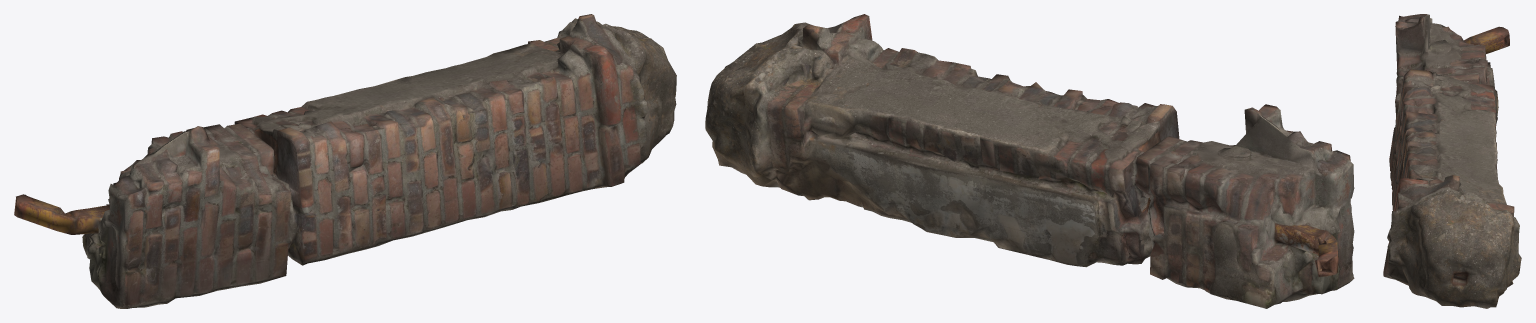
The model's file is PX_Brick_Ruins_21_LOD2.fbx.
The picture shows the model from 3 angles, left to right: view 1: azimuth 30°, elevation 25°; view 2: azimuth 150°, elevation 25°; view 3: azimuth 270°, elevation 25°; orthographic projection. The views are drawn at different scales.
Parts seen in each view (by area): view 1: PX_Brick_Ruins_21_LOD2; view 2: PX_Brick_Ruins_21_LOD2; view 3: PX_Brick_Ruins_21_LOD2.
Boxes of the visible parts, x1,y1,x2,y2 form: PX_Brick_Ruins_21_LOD2: (14, 14, 676, 308); PX_Brick_Ruins_21_LOD2: (705, 14, 1354, 308); PX_Brick_Ruins_21_LOD2: (1383, 14, 1521, 308).
Bounding box in the file's own units: 259 × 63.54 × 63.59.
1 material, 1 textured.
